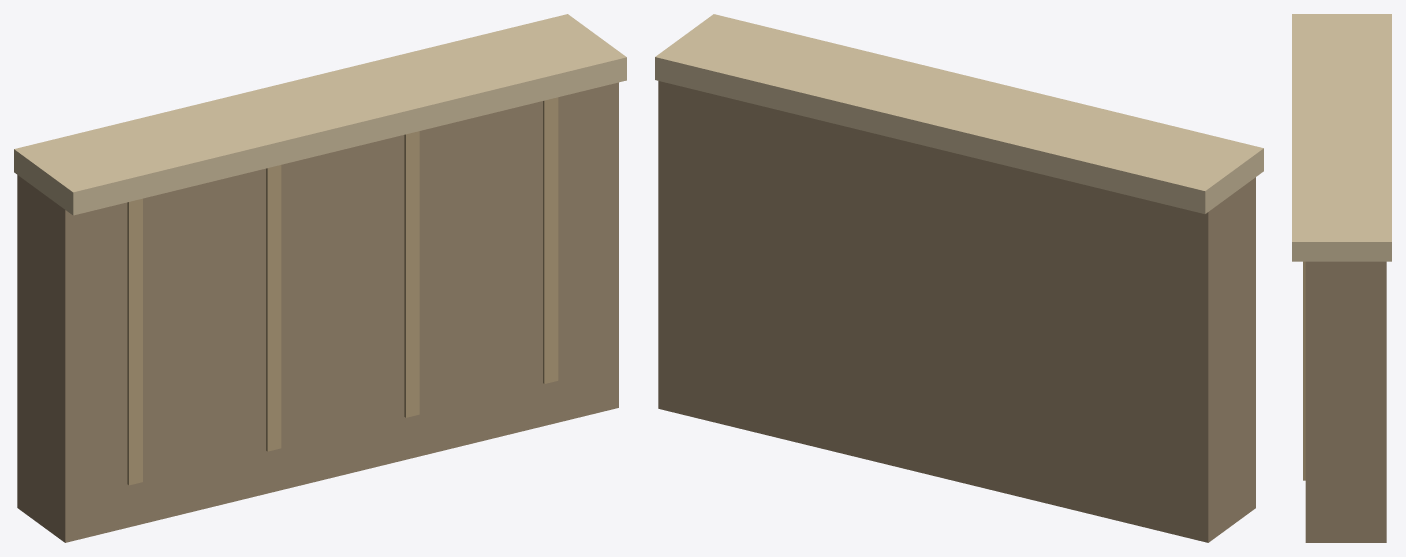
File: quay_wall.glb
3 renders of one model, left to right at view 1: azimuth 30°, elevation 25°; view 2: azimuth 150°, elevation 25°; view 3: azimuth 270°, elevation 25°, orthographic. The views are drawn at different scales.
Parts seen in each view (by area): view 1: SM_ENV_quay_wall; view 2: SM_ENV_quay_wall; view 3: SM_ENV_quay_wall.
Part boxes in pixels (box(x1,y1,x2,y2)): SM_ENV_quay_wall: box(14, 14, 626, 542); SM_ENV_quay_wall: box(655, 14, 1263, 542); SM_ENV_quay_wall: box(1292, 14, 1391, 542).
Size of the model in its own units: 4 by 2.46 by 0.74.
